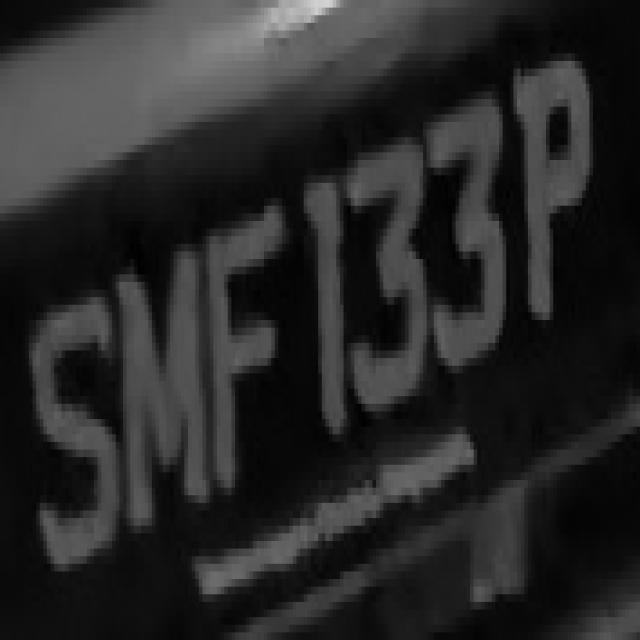1: (300, 145, 354, 495)
3: (419, 84, 514, 404), (336, 107, 427, 434)
F: (206, 183, 293, 510)
M: (116, 236, 220, 549)
P: (510, 38, 600, 351)
S: (22, 290, 123, 594)
